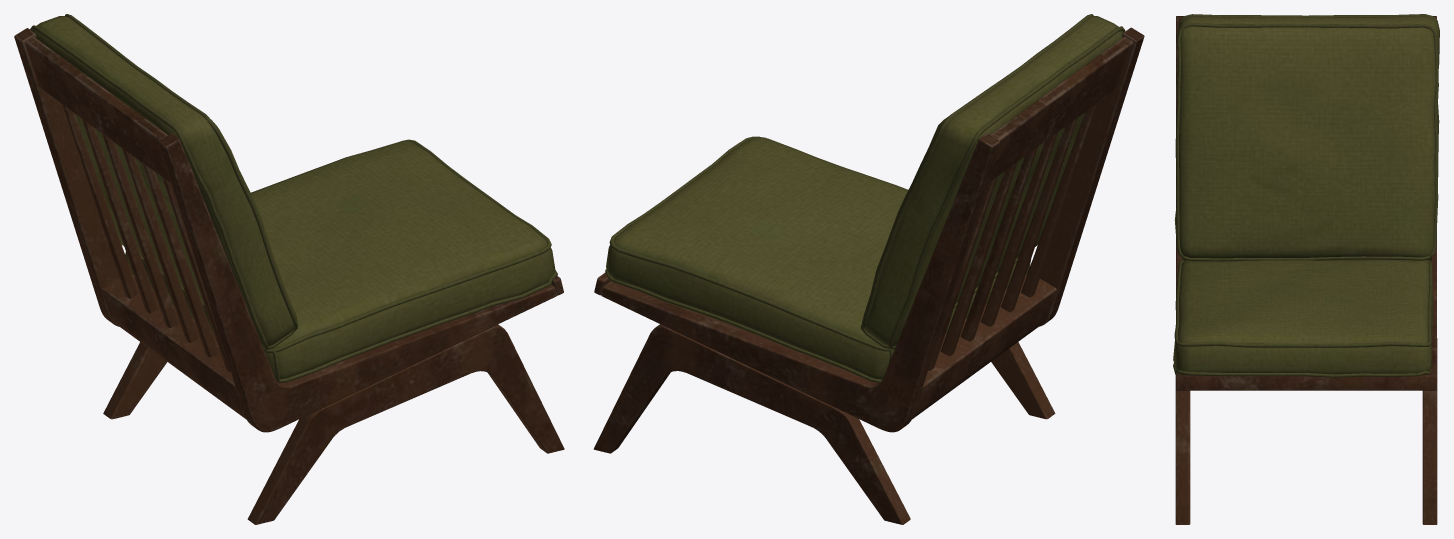
Rendered from chair50.glb.
3 views of the same model, side by side, from view 1: azimuth 30°, elevation 25°; view 2: azimuth 150°, elevation 25°; view 3: azimuth 270°, elevation 25° (orthographic). The views are drawn at different scales.
Visible parts, largest first — view 1: cushion 2 _cushions_0, Sides, cushion 1, Legs _chair_0, back _chair_0, top, Seat; view 2: cushion 2 _cushions_0, Sides, cushion 1, Legs _chair_0, back _chair_0, top, Seat; view 3: cushion 1, cushion 2 _cushions_0, Legs _chair_0, front _chair_0, Sides.
Boxes of the visible parts, <box> form: cushion 2 _cushions_0: <box>125,139,557,383</box>; Sides: <box>14,28,556,432</box>; cushion 1: <box>30,14,297,350</box>; Legs _chair_0: <box>103,324,564,524</box>; back _chair_0: <box>61,104,230,372</box>; top: <box>25,37,171,183</box>; Seat: <box>102,275,246,419</box>; cushion 2 _cushions_0: <box>605,136,1030,382</box>; Sides: <box>601,27,1144,432</box>; cushion 1: <box>860,14,1125,349</box>; Legs _chair_0: <box>593,324,1055,524</box>; back _chair_0: <box>928,103,1097,370</box>; top: <box>987,37,1133,183</box>; Seat: <box>628,273,1056,419</box>; cushion 1: <box>1174,14,1439,261</box>; cushion 2 _cushions_0: <box>1173,259,1432,377</box>; Legs _chair_0: <box>1175,338,1437,524</box>; front _chair_0: <box>1176,374,1436,390</box>; Sides: <box>1176,16,1436,374</box>.
Bounding box in the file's own units: 1.3 × 1.29 × 0.8786.
2 materials, 2 textured.
